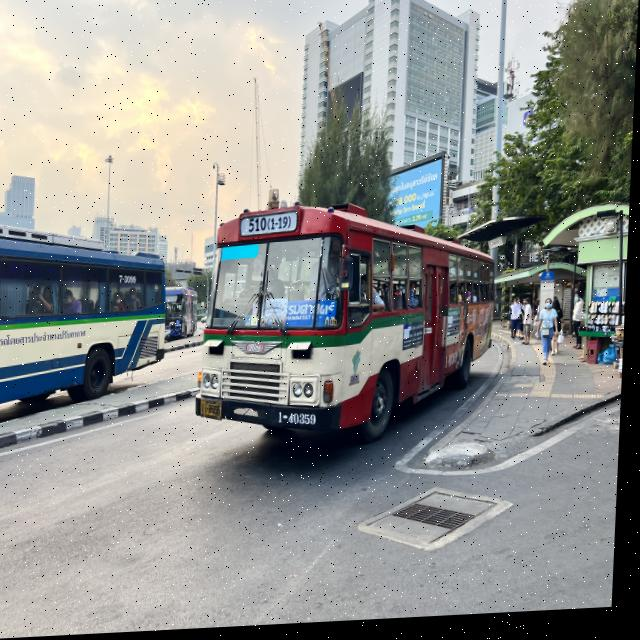BMTA-bus: (198, 209, 500, 450)
Bus Line Number: (239, 215, 301, 239)
Bus Side Number: (277, 404, 325, 436)
Destination Sign: (290, 301, 342, 332)
